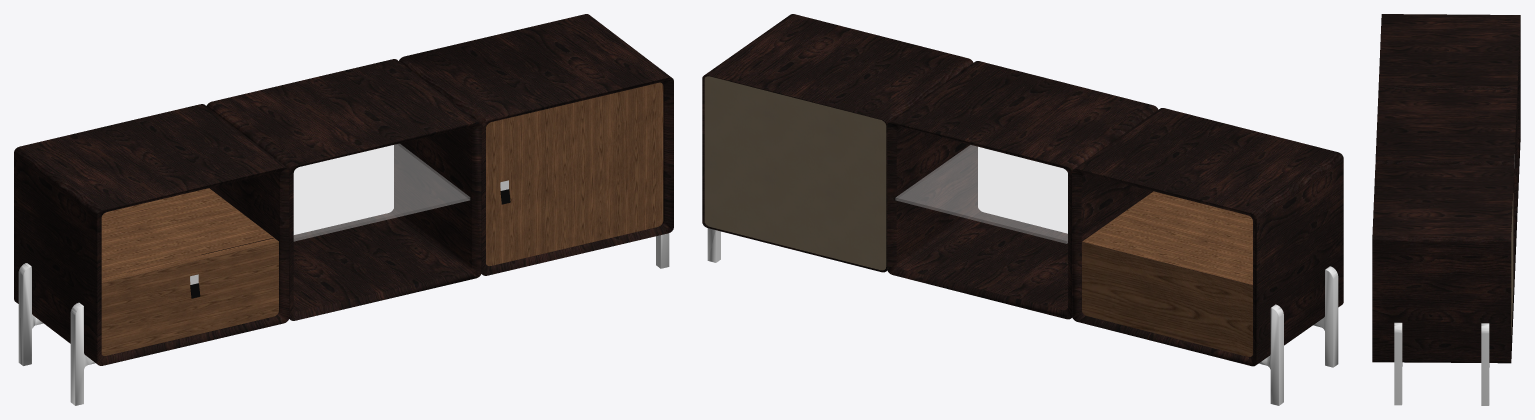
File: Mid_century_media_unit.glb
The picture shows the model from 3 angles, left to right: view 1: azimuth 30°, elevation 25°; view 2: azimuth 150°, elevation 25°; view 3: azimuth 270°, elevation 25°; orthographic projection. The views are drawn at different scales.
Visible parts, largest first — view 1: Object_17, Object_6, Object_4, Object_9; view 2: Object_17, Object_11, Object_6, Object_4, Object_9; view 3: Object_17, Object_9, Object_11.
Boxes of the visible parts, bbox=[...] form: Object_17: bbox=[14, 14, 673, 365]; Object_6: bbox=[101, 82, 663, 355]; Object_4: bbox=[294, 144, 469, 241]; Object_9: bbox=[18, 180, 669, 405]; Object_17: bbox=[702, 14, 1343, 366]; Object_11: bbox=[704, 76, 886, 270]; Object_6: bbox=[1082, 191, 1252, 356]; Object_4: bbox=[895, 145, 1067, 243]; Object_9: bbox=[707, 228, 1338, 405]; Object_17: bbox=[1372, 14, 1520, 363]; Object_9: bbox=[1394, 322, 1489, 405]; Object_11: bbox=[1511, 193, 1513, 335].
Size of the model in its own units: 1.82 by 0.5964 by 0.4885.
6 materials, 3 textured.
